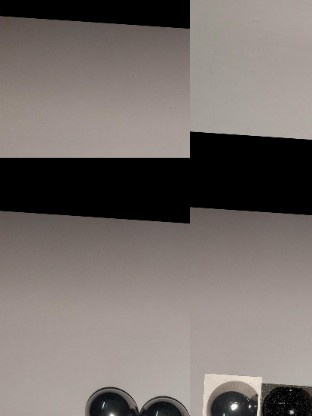ironball: (204, 369, 265, 415), (261, 379, 312, 415), (83, 380, 134, 414), (136, 387, 190, 414)
